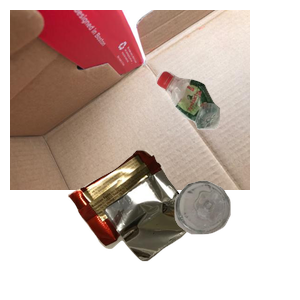cardboard: (10, 10, 250, 190)
glass: (172, 178, 300, 300)
plastic: (153, 68, 300, 190)
trash: (65, 148, 258, 300)
